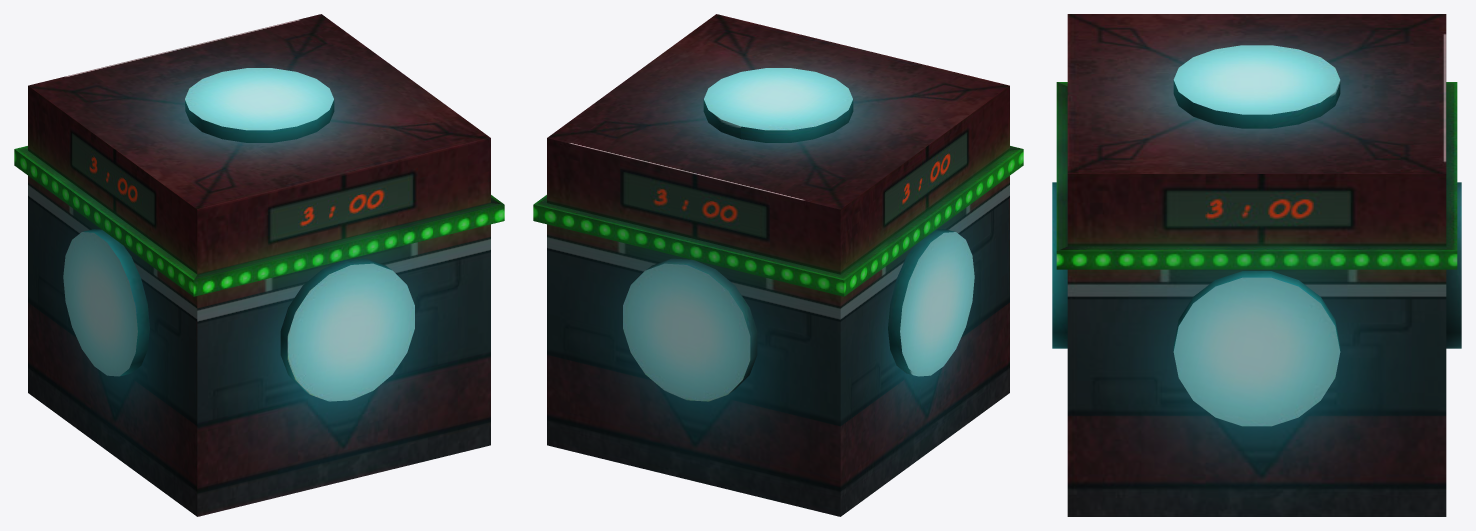
The model's file is Bombe_v2.FBX.
3 views of the same model, side by side, from view 1: azimuth 30°, elevation 25°; view 2: azimuth 150°, elevation 25°; view 3: azimuth 270°, elevation 25° (orthographic). The views are drawn at different scales.
Parts seen in each view (by area): view 1: Cube_Bombe; view 2: Cube_Bombe; view 3: Cube_Bombe.
Part boxes in pixels (x1,y1,x2,y2): Cube_Bombe: (14, 14, 504, 516); Cube_Bombe: (533, 14, 1023, 516); Cube_Bombe: (1052, 14, 1461, 516).
Size of the model in its own units: 312 by 300 by 312.
